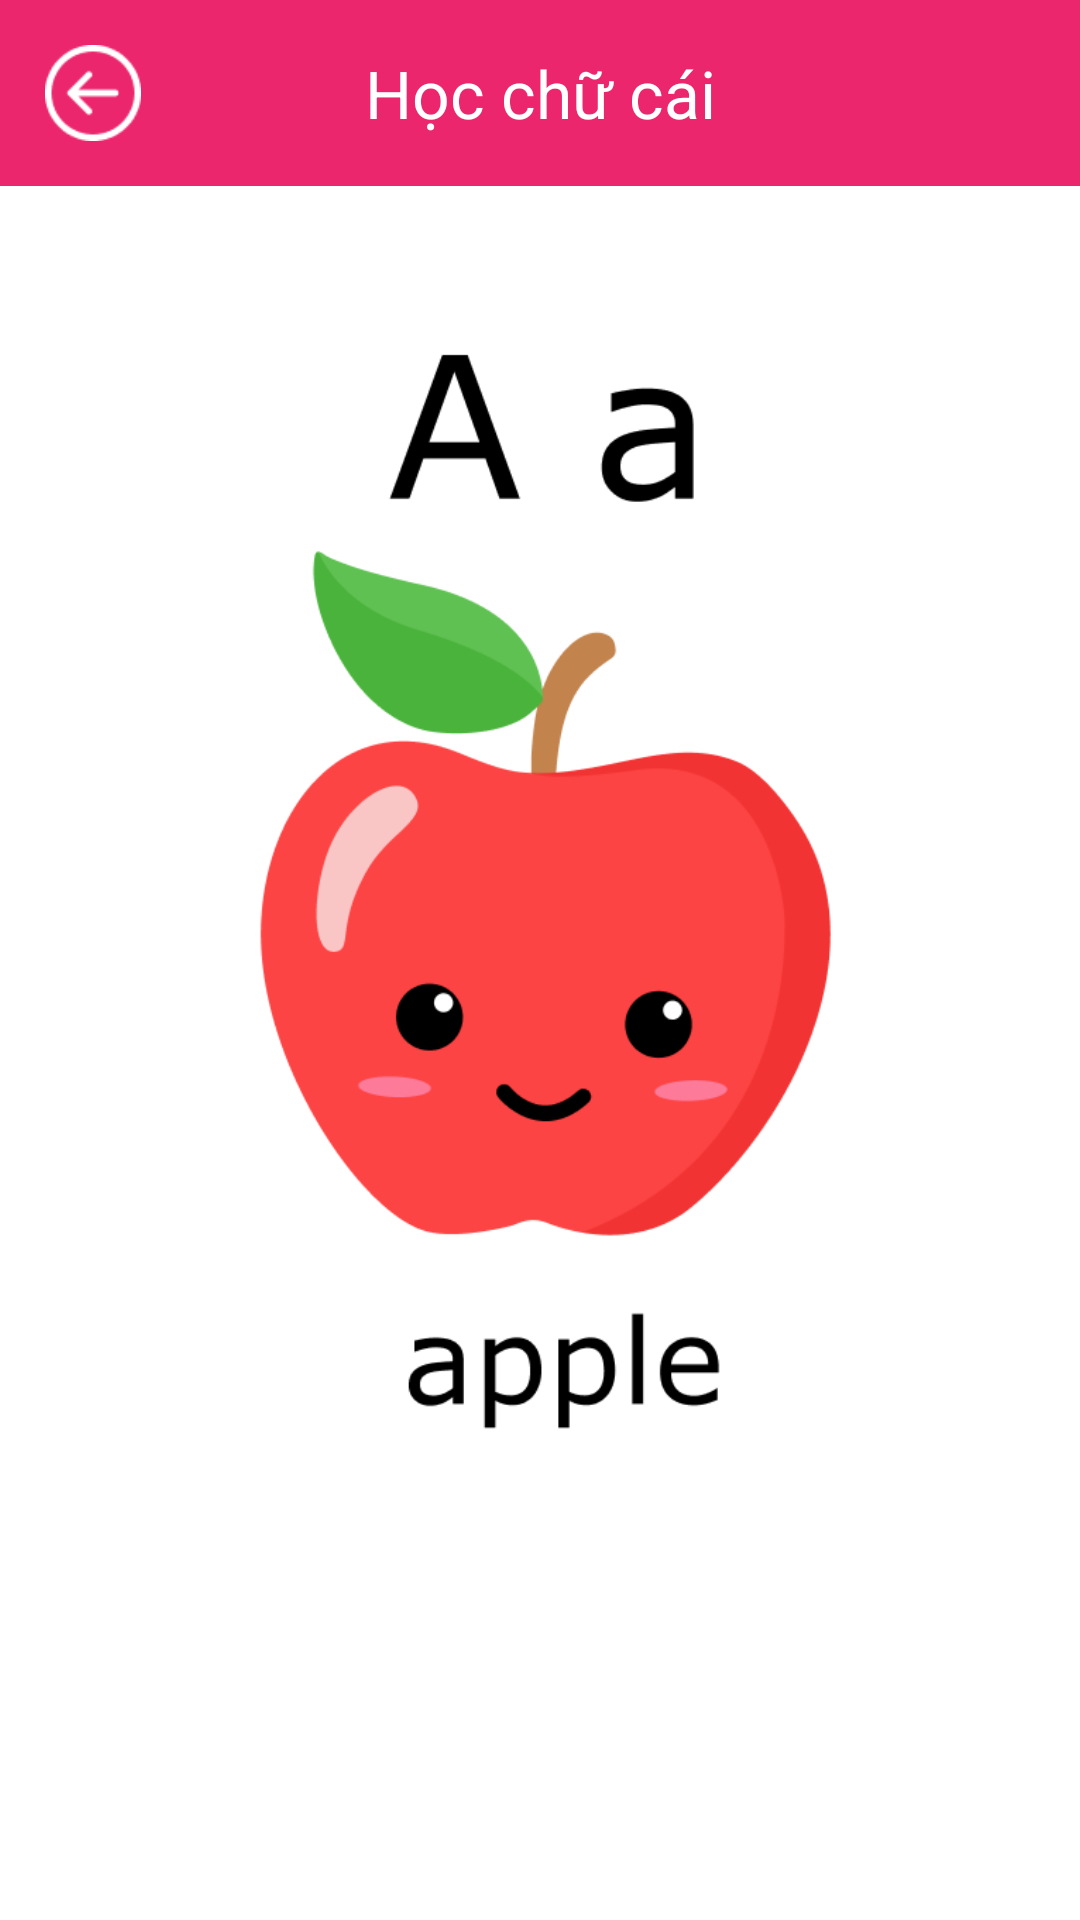

Icons on this 1080×1920 Android screen, each with the point to tap as (x,y):
back: (93,93)
